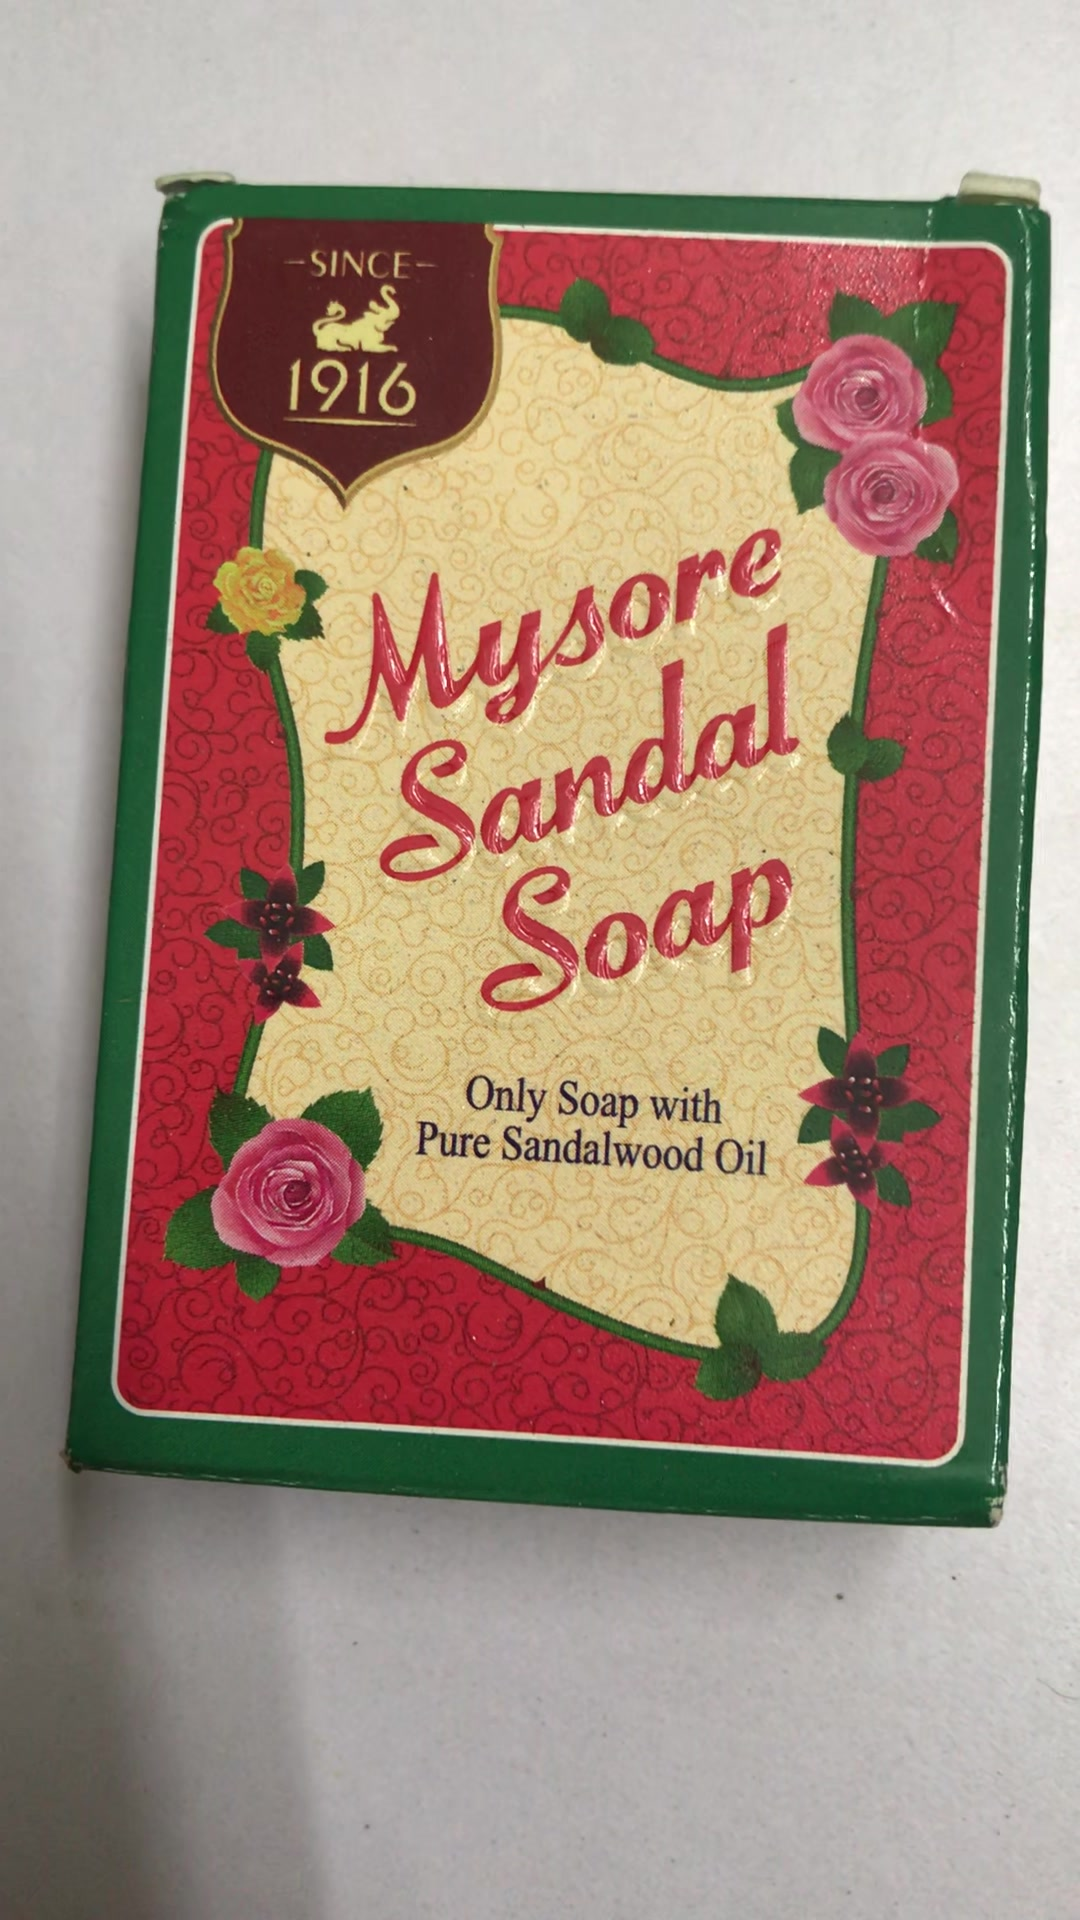mysore sandal soap: (63, 189, 1044, 1524)
